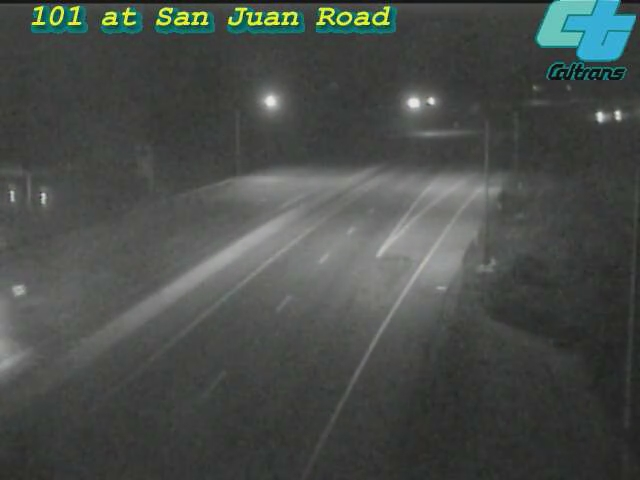vehicle: (1, 257, 47, 337), (574, 92, 624, 142), (594, 90, 640, 140)
